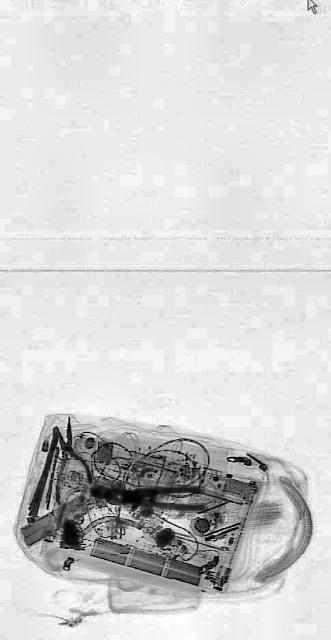Pliers: (43, 408, 93, 506), (123, 484, 204, 510)
